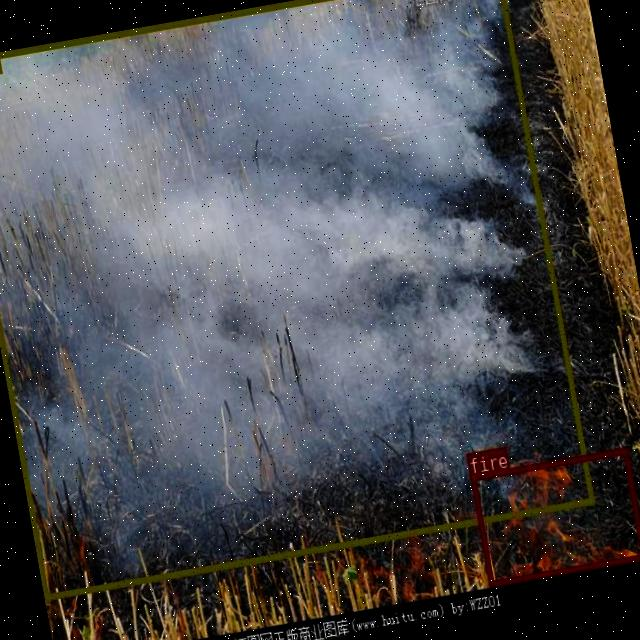fire: (469, 446, 640, 586)
smoke: (0, 0, 593, 599)
